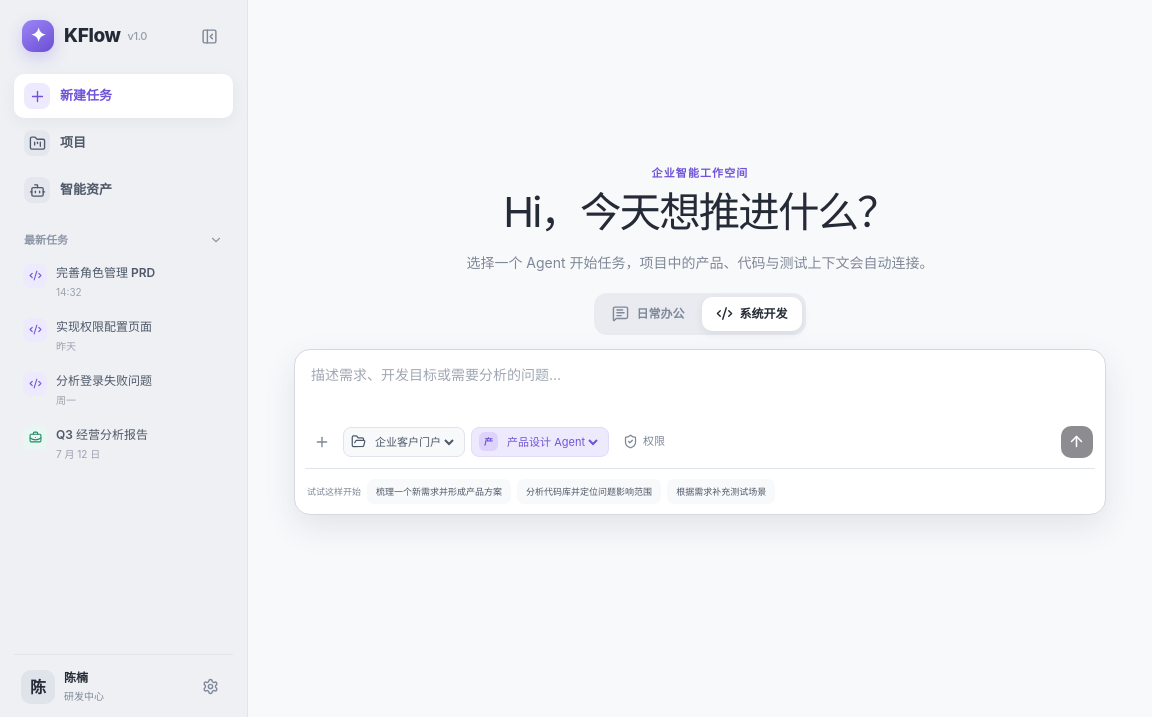
Scenario: enterprise AI client demo › opens every recent task with its own content and active Agent
Click the button with aria-label "开发任务：完善角色管理 PRD14:32" at (124, 282), box [14,256,233,308]
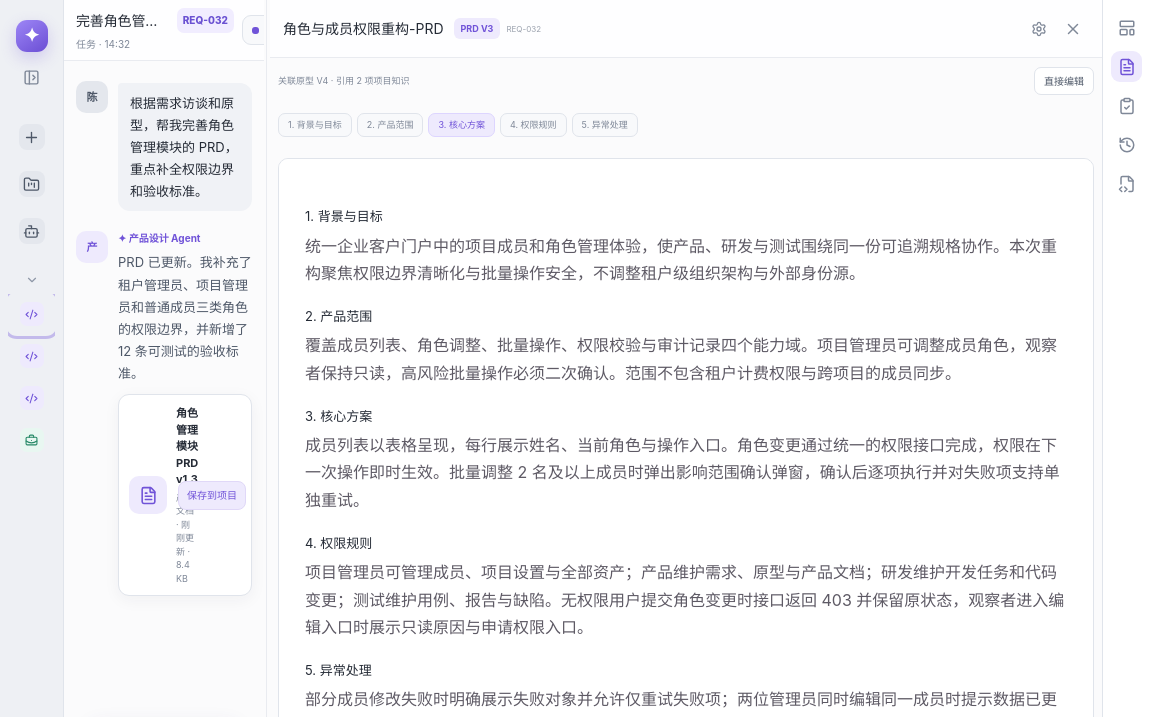
Result: the heading "完善角色管理 PRD" is shown at [76,10,171,31]
Result: the text "PRD 已更新。我补充了租户管理员、项目管理员和普通成员三类角色的权限边界，并新增了 12 条可测试的验收标准。" is shown at [118,252,252,384]
Click the button named "开发任务：实现权限配置页面昨天" at (32, 356), box [8,336,55,376]
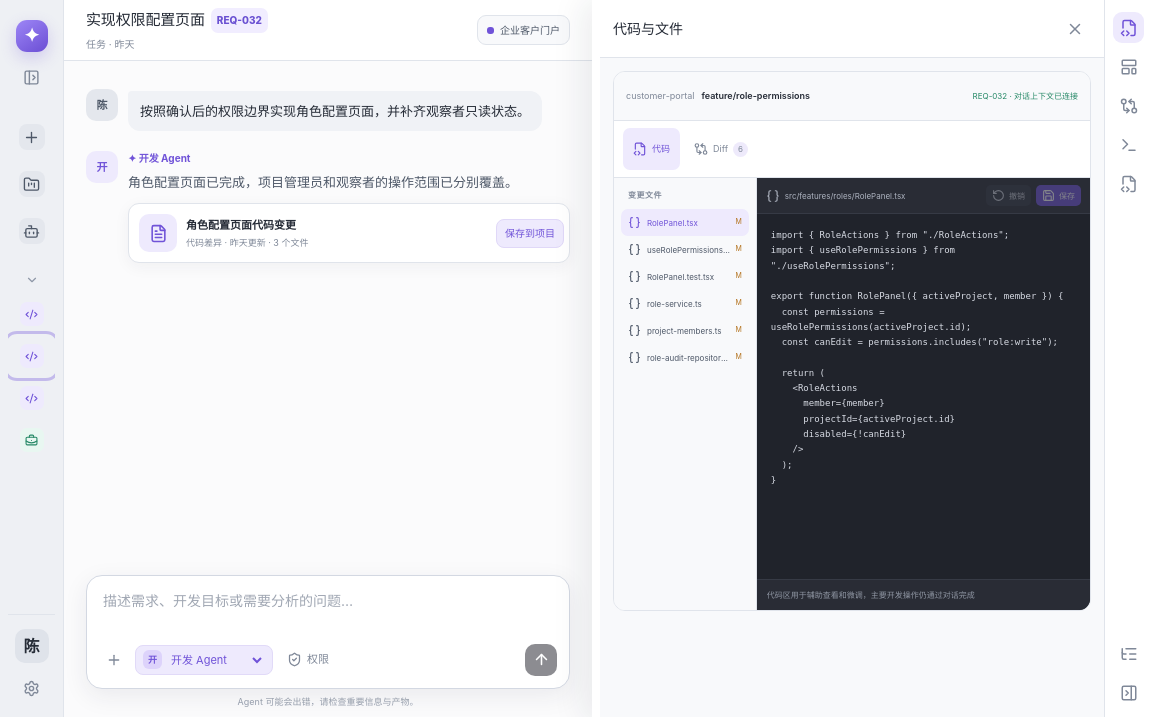
Result: the heading "实现权限配置页面" is shown at [86,9,205,32]
Result: the text "角色配置页面已完成，项目管理员和观察者的操作范围已分别覆盖。" is shown at [128,171,570,193]
Result: the dropdown named "选择 Agent" shows "开发 Agent" at [167,652,265,668]
Click the button named "开发任务：分析登录失败问题周一" at (32, 398), box [8,378,55,418]
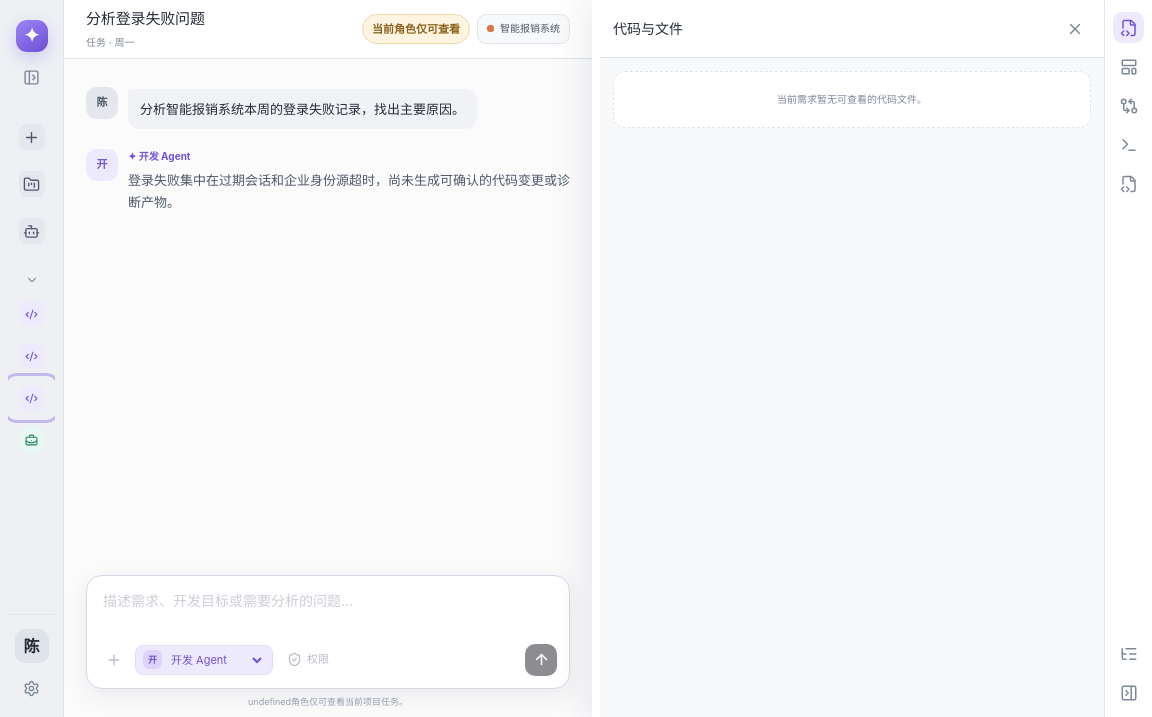
Result: the dropdown named "选择 Agent" shows "开发 Agent" at [167,652,265,668]
Result: the heading "分析登录失败问题" is shown at [86,8,205,30]
Result: the text "登录失败集中在过期会话和企业身份源超时，尚未生成可确认的代码变更或诊断产物。" is shown at [128,169,570,213]
Click the button named "办公任务：Q3 经营分析报告7 月 12 日" at (32, 440), box [8,420,55,460]
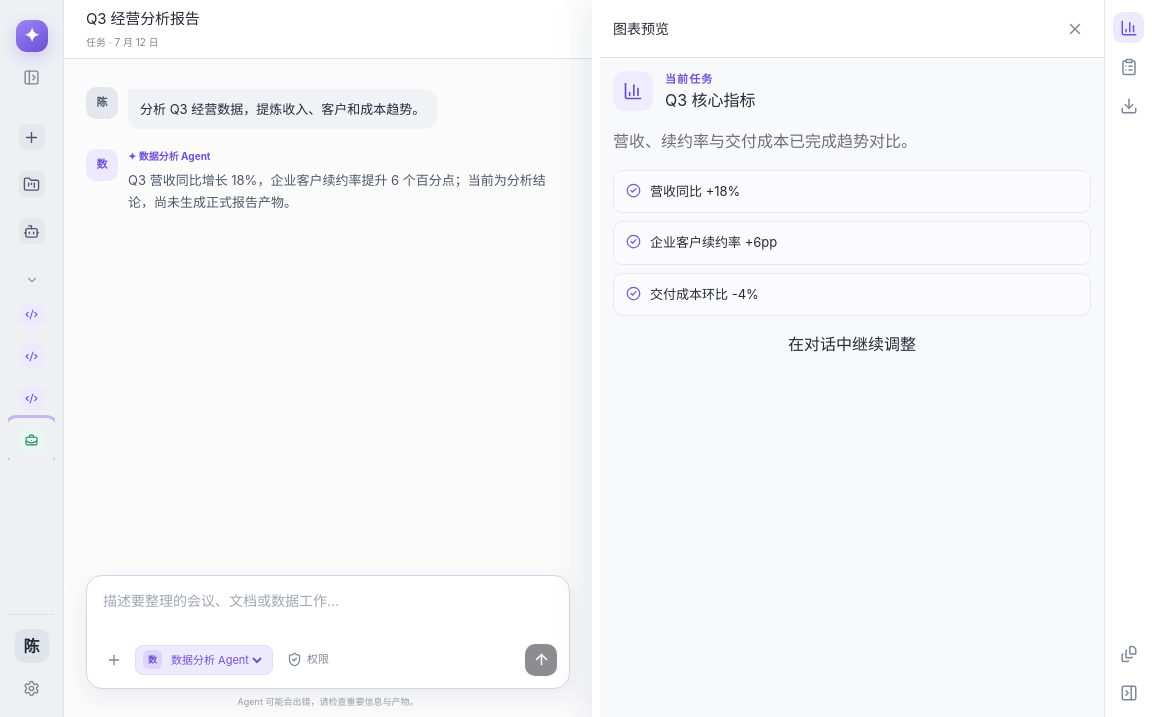
Result: the heading "Q3 经营分析报告" is shown at [86,8,200,30]
Result: the text "Q3 营收同比增长 18%，企业客户续约率提升 6 个百分点；当前为分析结论，尚未生成正式报告产物。" is shown at [128,169,570,213]
Result: the dropdown named "选择 Agent" shows "数据分析 Agent" at [167,652,265,668]
